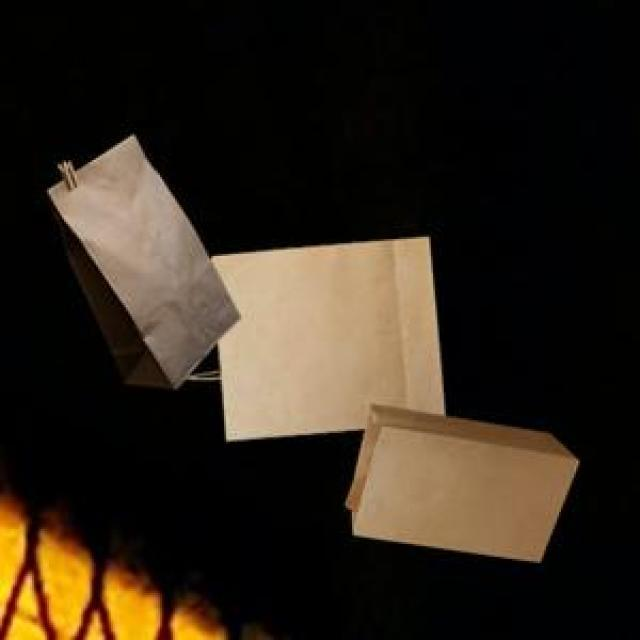paper: (43, 132, 237, 384), (207, 233, 440, 435), (341, 401, 574, 557)
